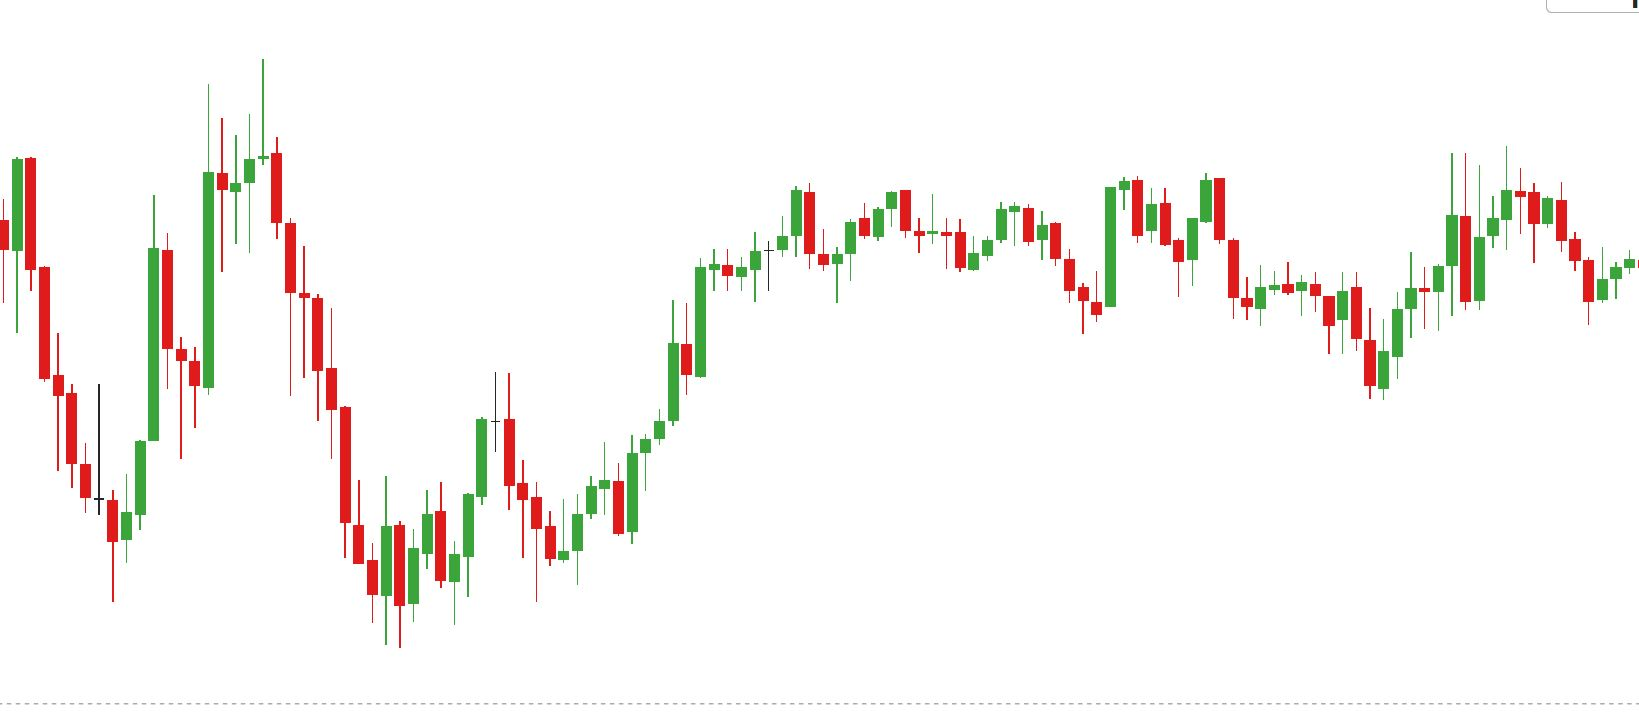buy: (108, 302, 394, 648)
sell: (994, 175, 1146, 278)
